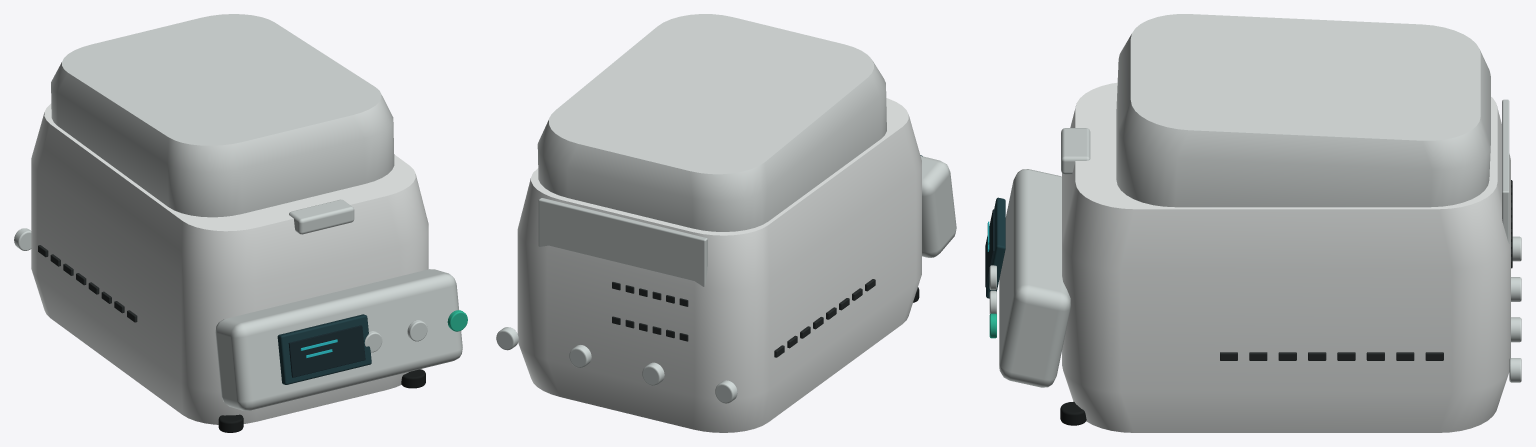
The model's file is microcentrifuge.glb.
3 renders of one model, left to right at view 1: azimuth 30°, elevation 25°; view 2: azimuth 150°, elevation 25°; view 3: azimuth 270°, elevation 25°, orthographic. The views are drawn at different scales.
Parts seen in each view (by area): view 1: Runtime batch - Cool white instrument polymer, Runtime batch - Light bead-blasted aluminum, Runtime batch - Light instrument gray powder coat, Runtime batch - Smoked instrument display glass, Runtime batch - Smoked control display, Runtime batch - Brushed analytical silver, Runtime batch - Black leveling-foot rubber, Runtime batch - Casework seam shadow; view 2: Runtime batch - Cool white instrument polymer, Runtime batch - Light bead-blasted aluminum, Runtime batch - Light instrument gray powder coat, Runtime batch - Brushed analytical silver, Runtime batch - Casework seam shadow; view 3: Runtime batch - Cool white instrument polymer, Runtime batch - Light bead-blasted aluminum, Runtime batch - Light instrument gray powder coat, Runtime batch - Casework seam shadow, Runtime batch - Brushed analytical silver, Runtime batch - Smoked control display, Runtime batch - Black leveling-foot rubber.
Part boxes in pixels (x1,y1,x2,y2): Runtime batch - Cool white instrument polymer: (31,103,428,424); Runtime batch - Light bead-blasted aluminum: (51,14,394,217); Runtime batch - Light instrument gray powder coat: (215,199,462,410); Runtime batch - Smoked instrument display glass: (288,325,365,377); Runtime batch - Smoked control display: (277,314,371,384); Runtime batch - Brushed analytical silver: (14,228,427,352); Runtime batch - Black leveling-foot rubber: (218,369,425,432); Runtime batch - Casework seam shadow: (38,245,137,322); Runtime batch - Cool white instrument polymer: (517,98,921,432); Runtime batch - Light bead-blasted aluminum: (537,14,886,231); Runtime batch - Light instrument gray powder coat: (538,156,956,286); Runtime batch - Brushed analytical silver: (496,327,737,403); Runtime batch - Casework seam shadow: (612,279,875,357); Runtime batch - Cool white instrument polymer: (1062,82,1510,432); Runtime batch - Light bead-blasted aluminum: (1116,14,1490,207); Runtime batch - Light instrument gray powder coat: (999,99,1509,387); Runtime batch - Casework seam shadow: (1220,180,1512,360); Runtime batch - Brushed analytical silver: (989,236,1521,382); Runtime batch - Smoked control display: (986,197,1005,298); Runtime batch - Black leveling-foot rubber: (1060,401,1086,425).
Bounding box in the file's own units: 0.24 × 0.2396 × 0.3888.
